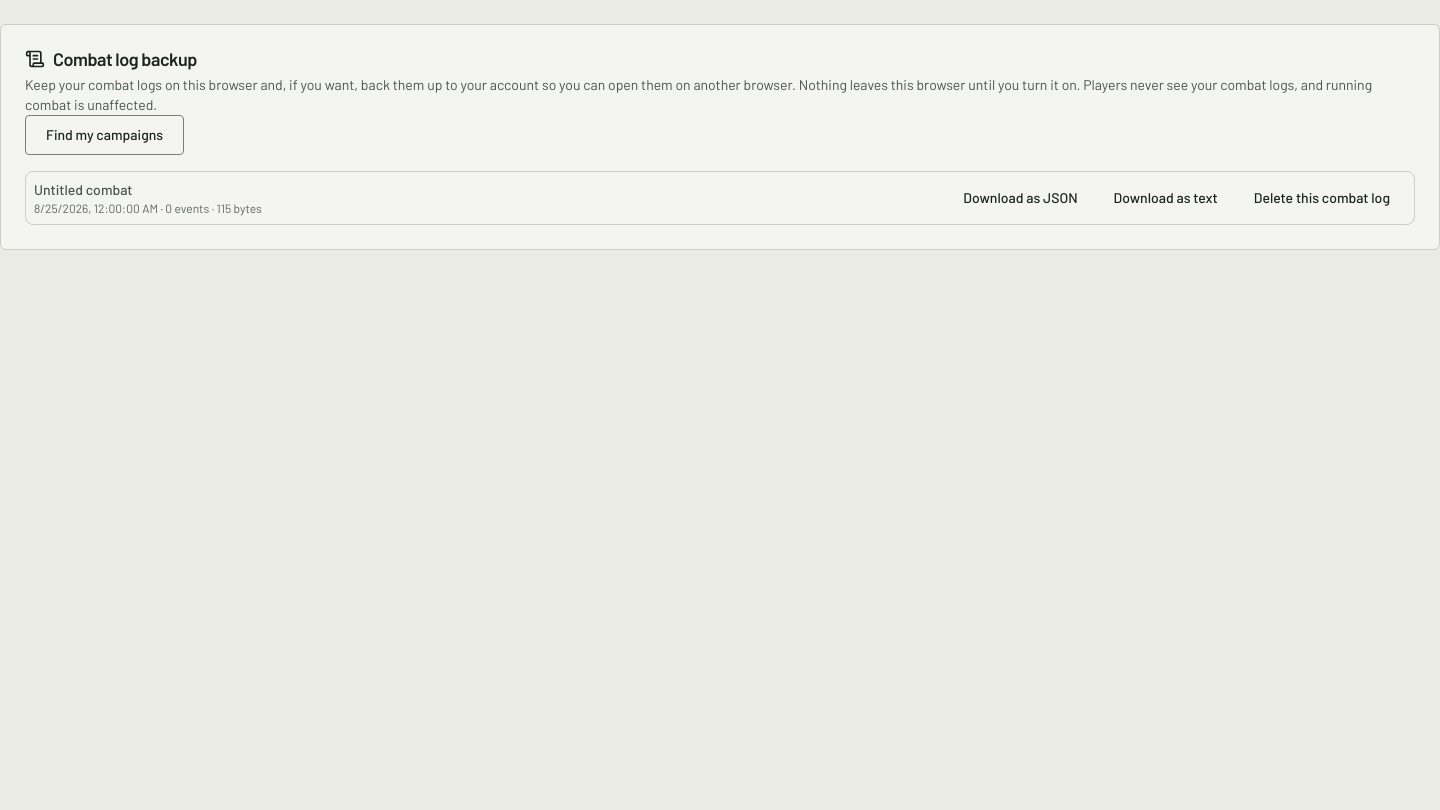
Test: CombatLogArchiveSyncControls durability guards › never uploads the local candidate after device enrollment
The image size is (1440, 810).
Click the button "Find my campaigns" at (105,135), box [25,115,184,155]
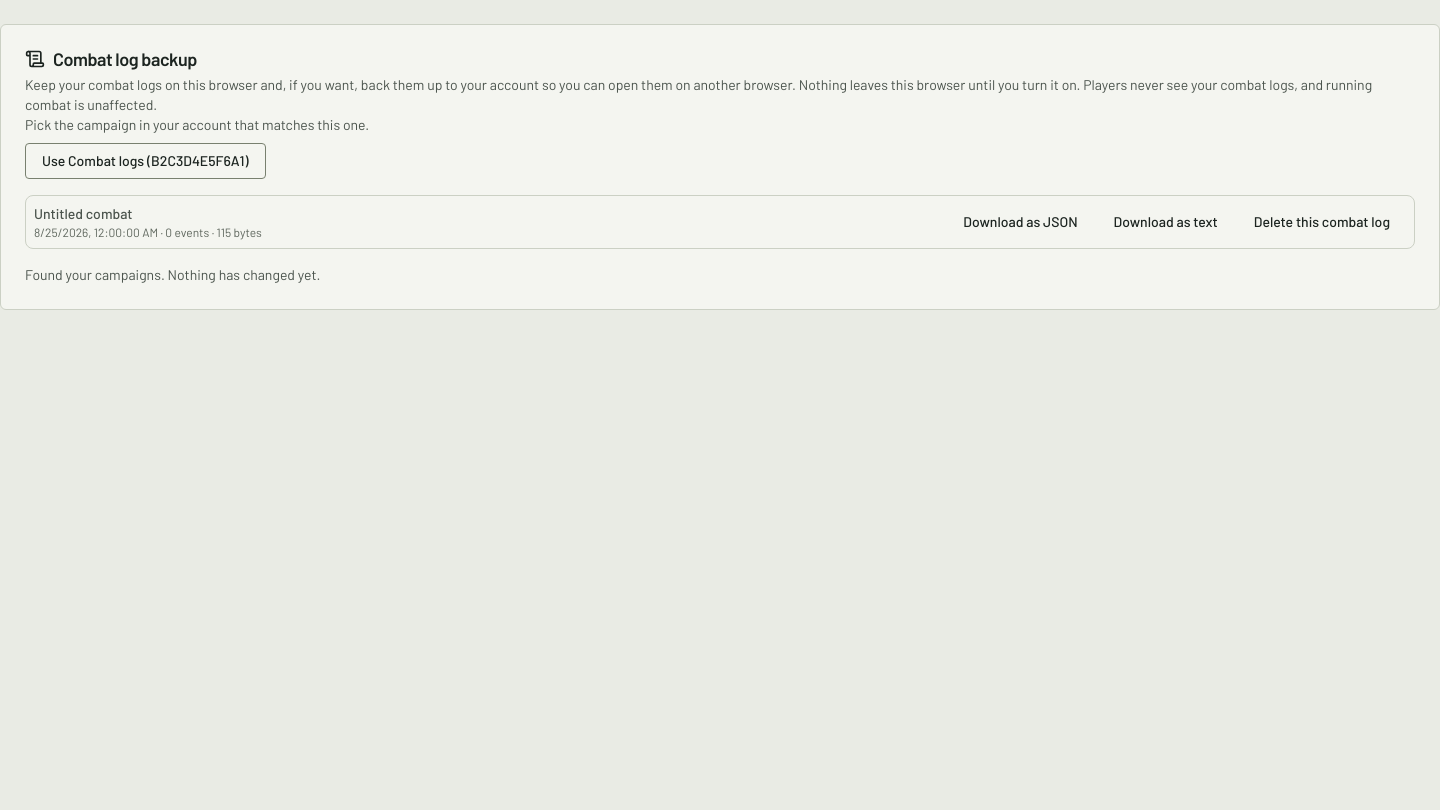
Click the button "Use Combat logs (B2C3D4E5F6A1)" at (145,161), box [25,143,266,179]
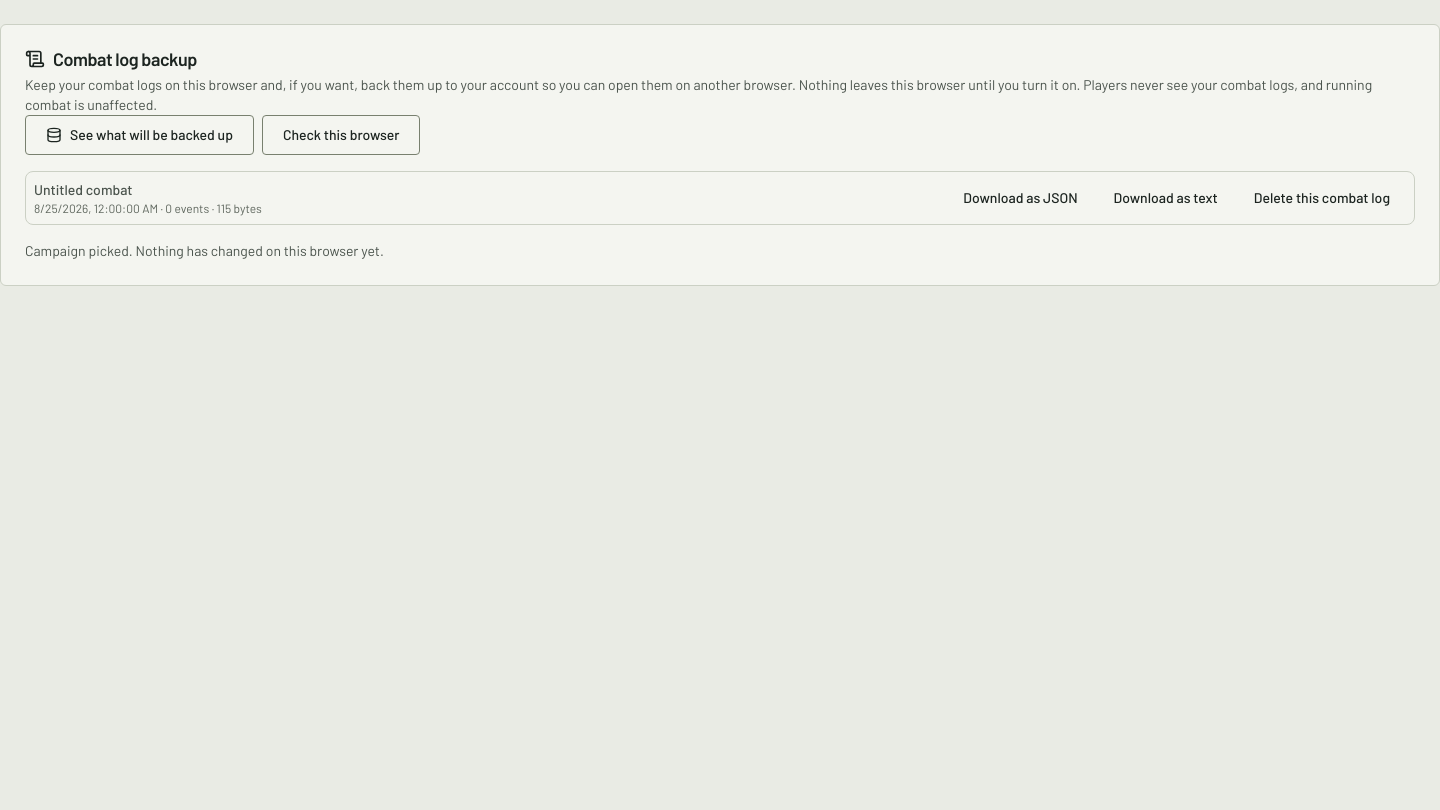
Click the button "Check this browser" at (341,135), box [262,115,420,155]
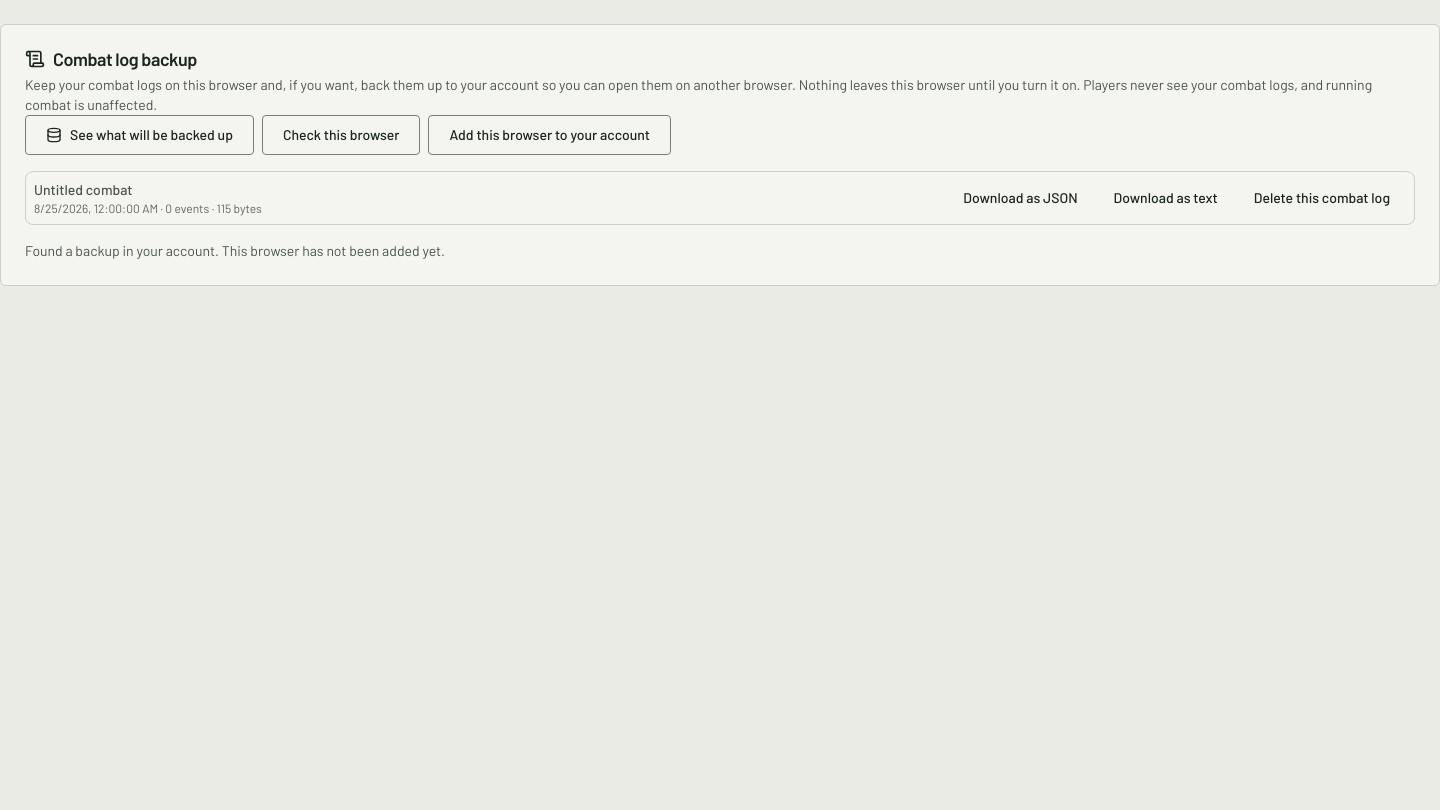
Click the button "Add this browser to your account" at (550,135), box [428,115,671,155]
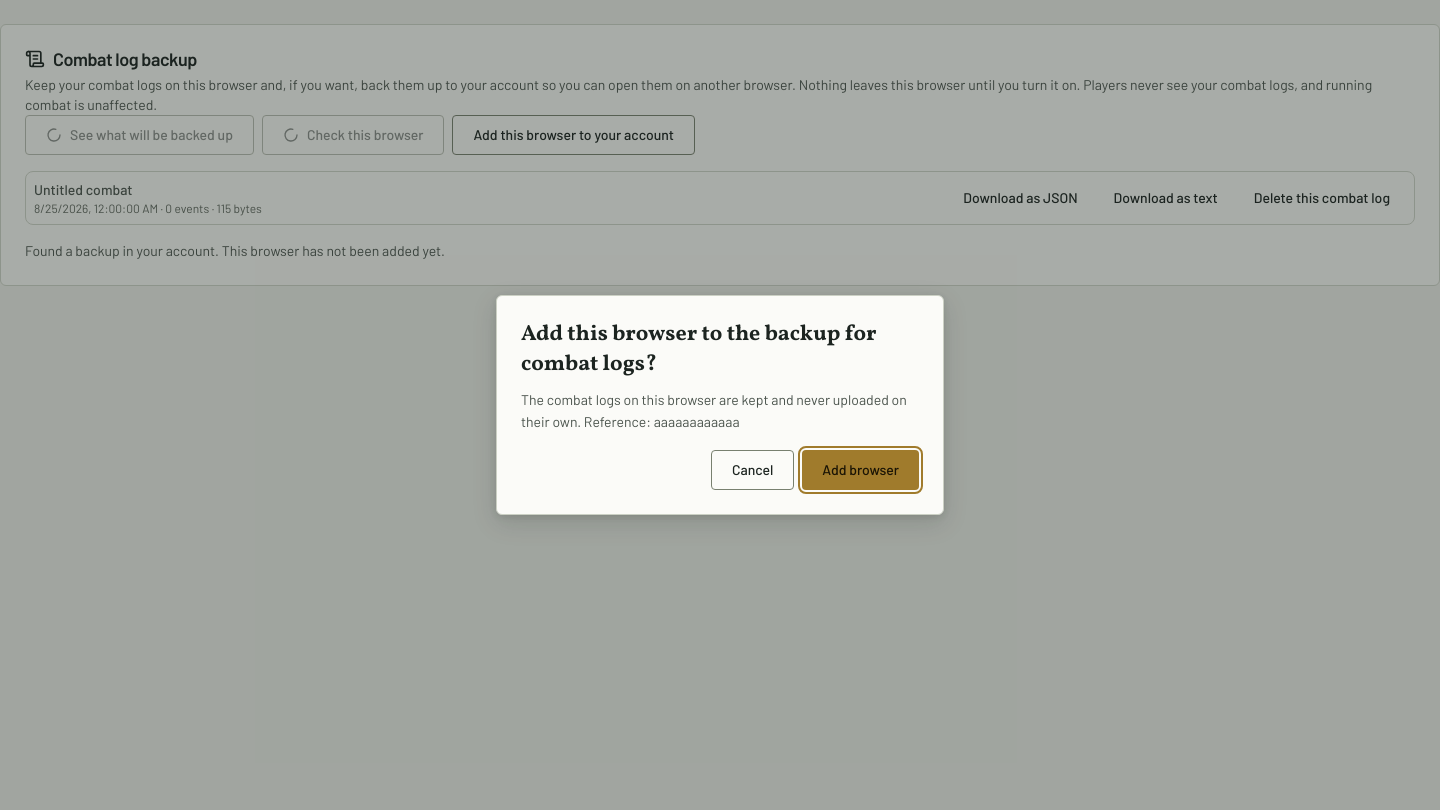
Click the button "Add browser" at (861,470), box [802,450,919,490]
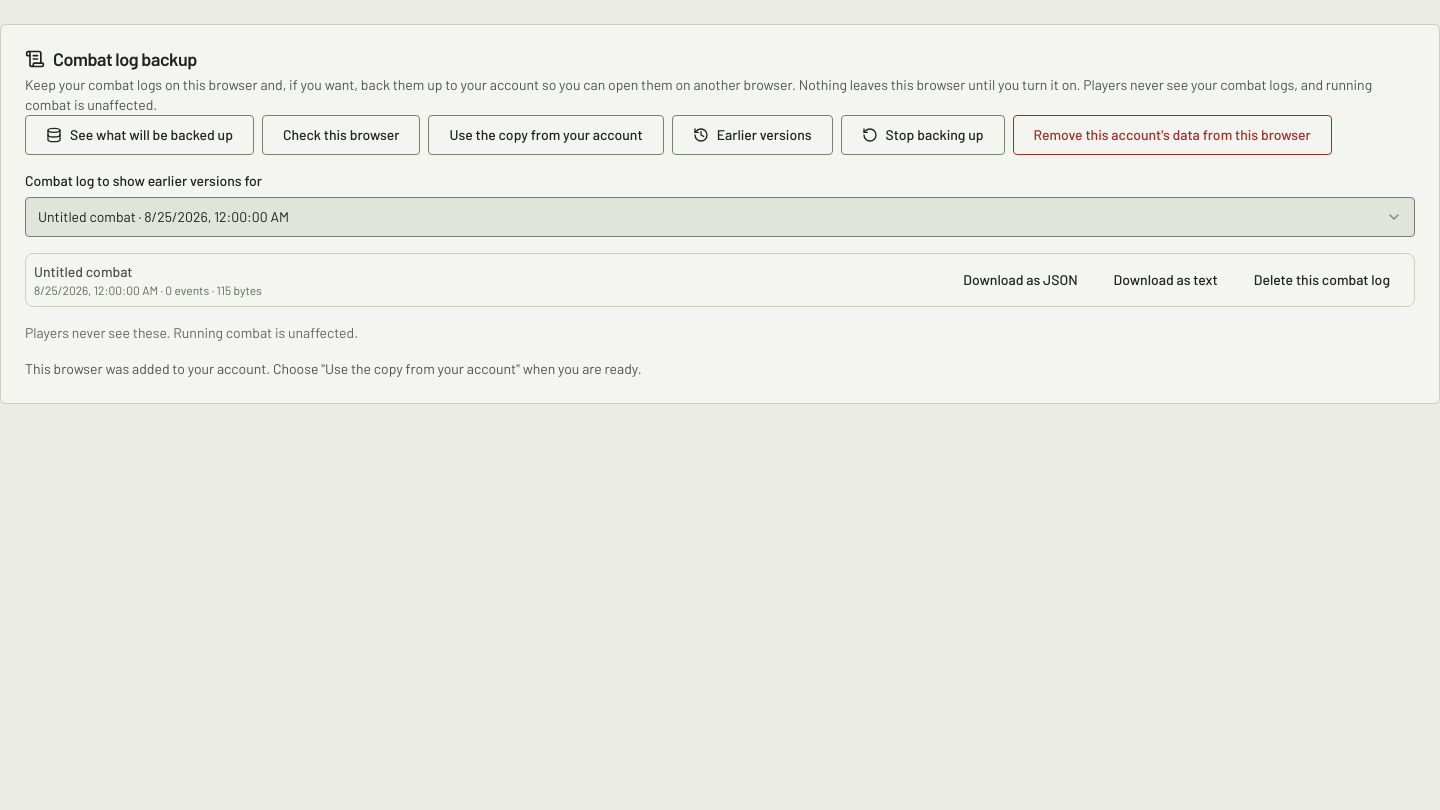
Result: the text "This browser was added to your account. Choose \"Use the copy from your account\" when you are ready." is shown at [25,360,642,377]
